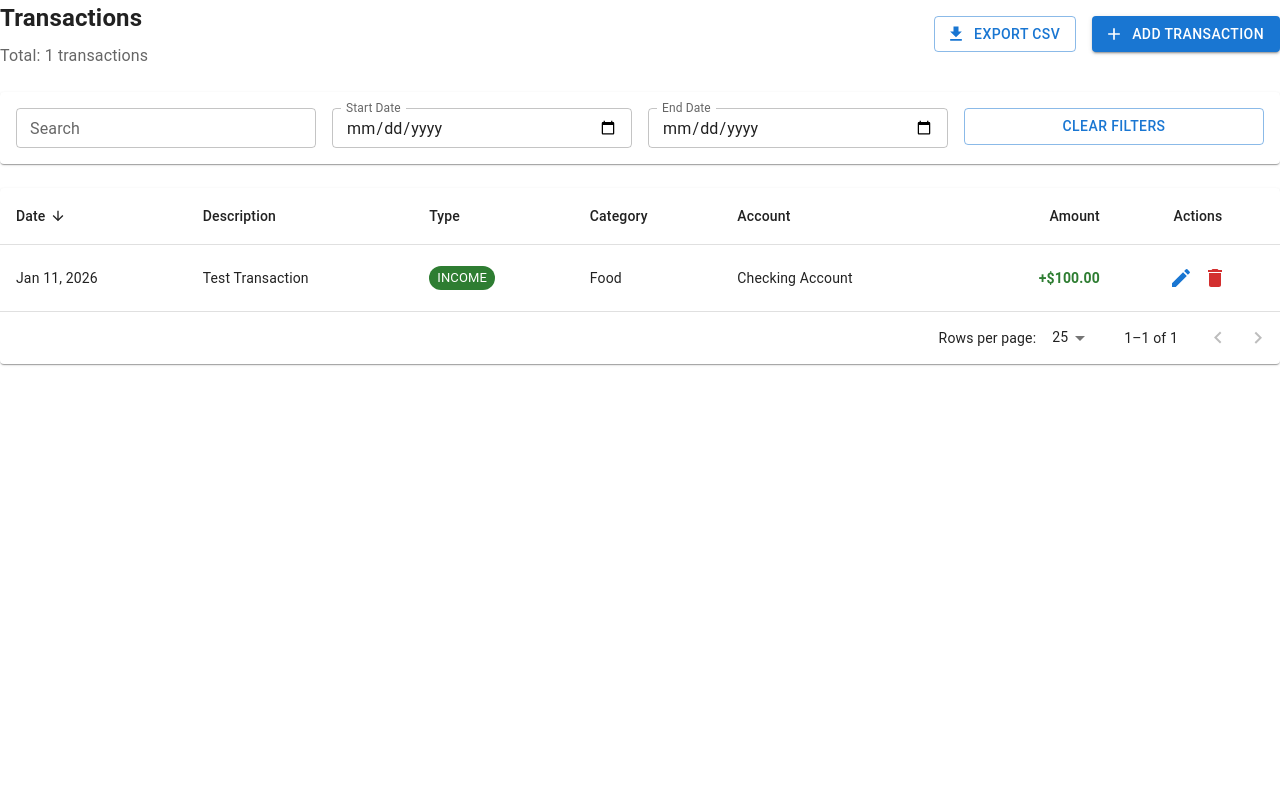
it: Transactions › Add Transaction Dialog › should show validation error when account is not selected
Click the button "Add Transaction" at (1186, 34), box [1092, 16, 1279, 52]
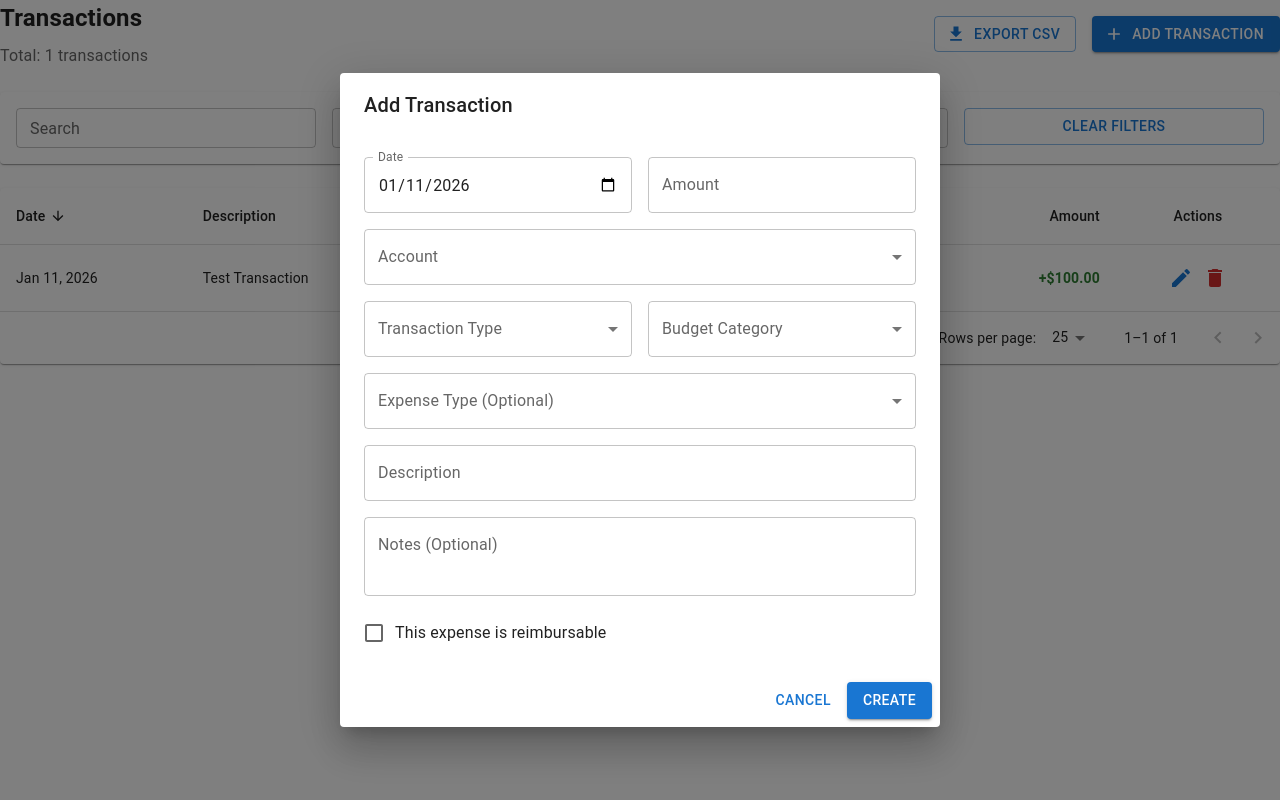
expect the button "Create" is shown: met
Click the button "Create" at (889, 701), box [847, 682, 932, 719]
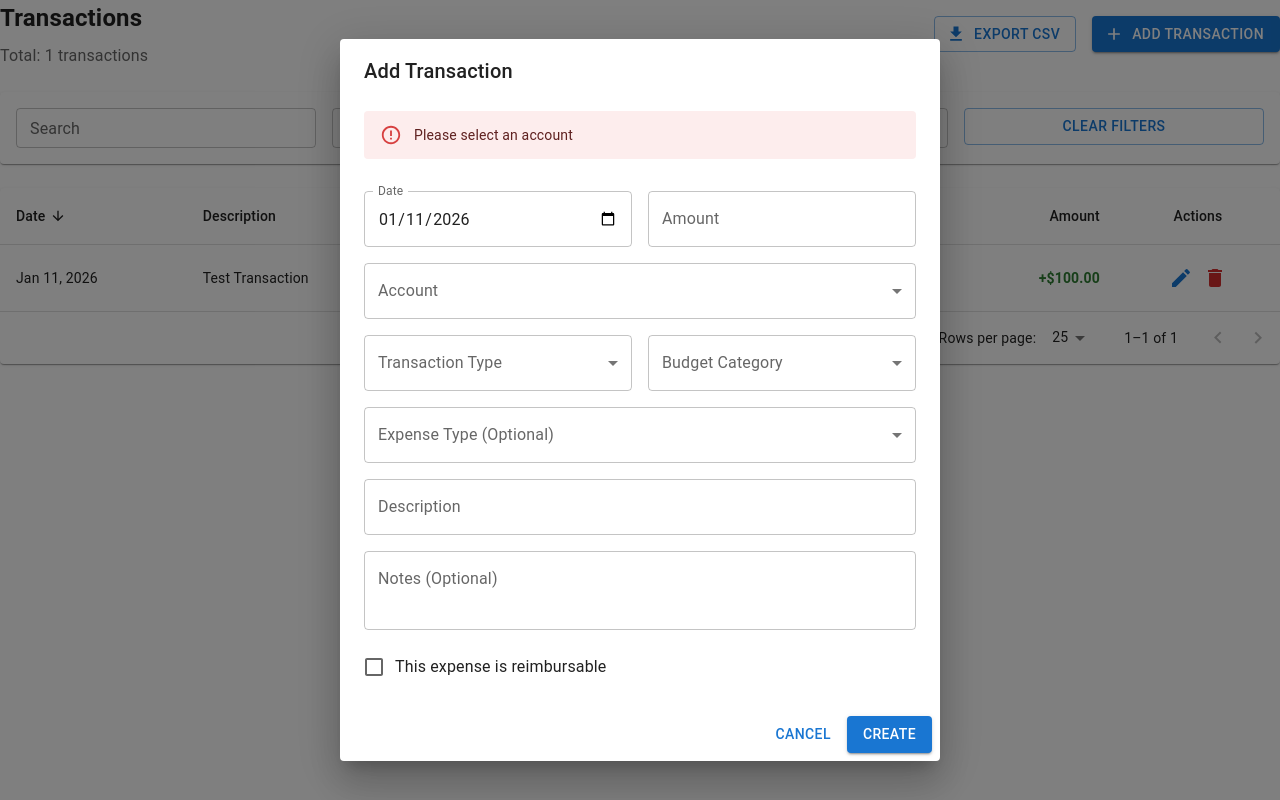
expect the text "Please select an account" is shown: met, box [414, 127, 573, 143]
